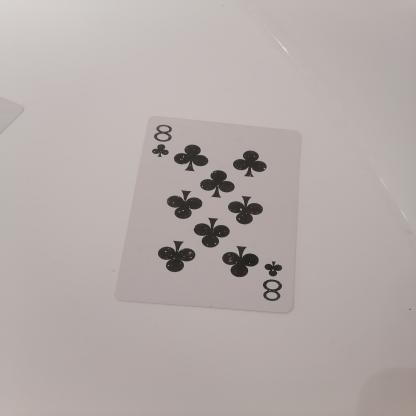8C: (256, 256, 298, 309), (140, 122, 185, 167)
